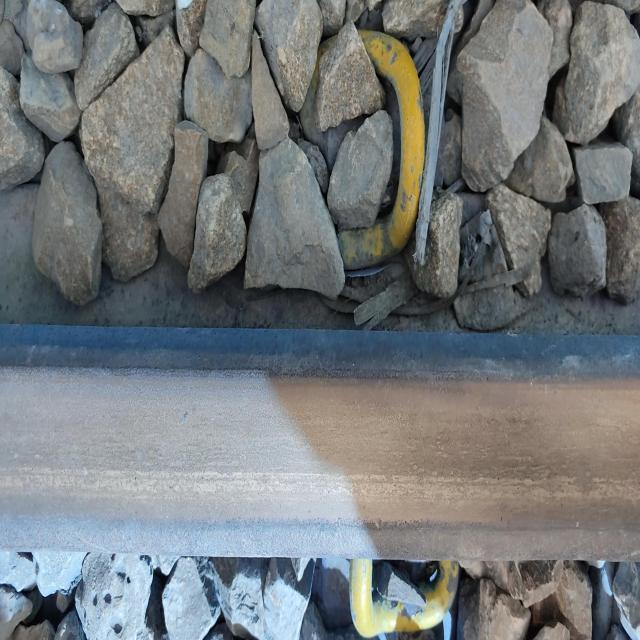Good Fasteners: (340, 30, 424, 263), (349, 559, 459, 637)
